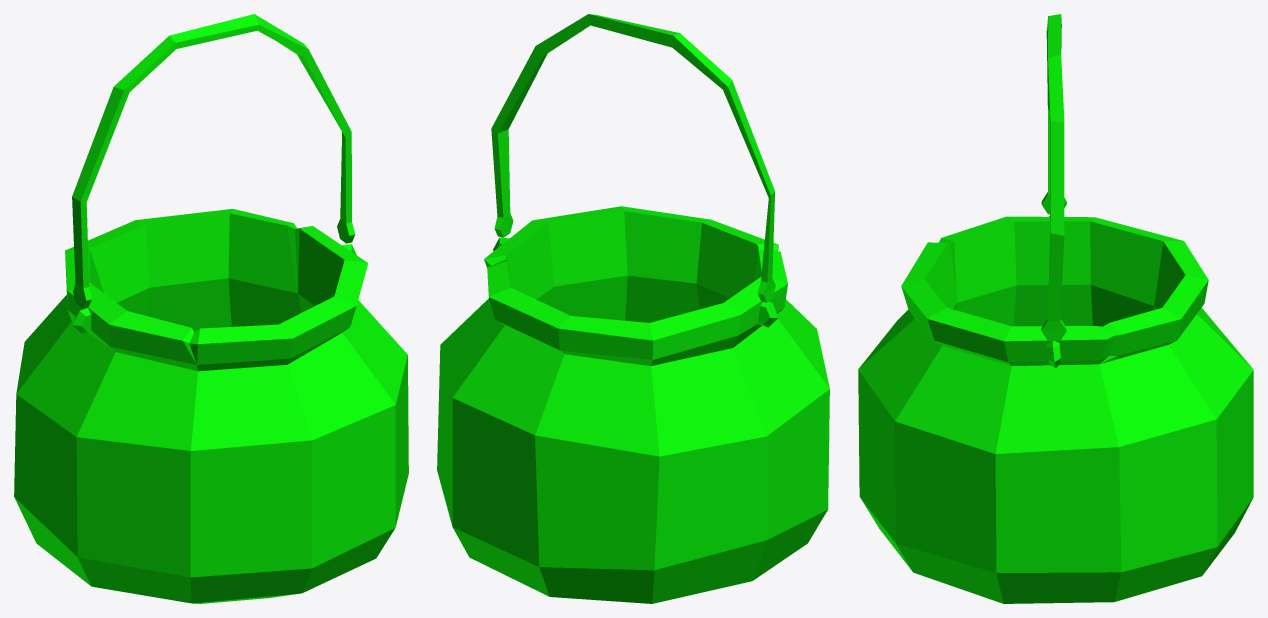
Rendered from SM_Cauldron_Small_Soup.fbx.
3 views of the same model, side by side, from view 1: azimuth 30°, elevation 25°; view 2: azimuth 150°, elevation 25°; view 3: azimuth 270°, elevation 25° (orthographic).
Parts seen in each view (by area): view 1: cauldron-small-soup-base, cauldron-small-soup-handle; view 2: cauldron-small-soup-base, cauldron-small-soup-handle; view 3: cauldron-small-soup-base, cauldron-small-soup-handle.
Part boxes in pixels (box(x1,y1,x2,y2)): cauldron-small-soup-base: box(14, 209, 408, 603); cauldron-small-soup-handle: box(72, 14, 355, 308); cauldron-small-soup-base: box(437, 206, 829, 603); cauldron-small-soup-handle: box(491, 14, 775, 302); cauldron-small-soup-base: box(858, 216, 1253, 603); cauldron-small-soup-handle: box(1041, 14, 1066, 340).
Bounding box in the file's own units: 0.2852 × 0.4355 × 0.2978.
